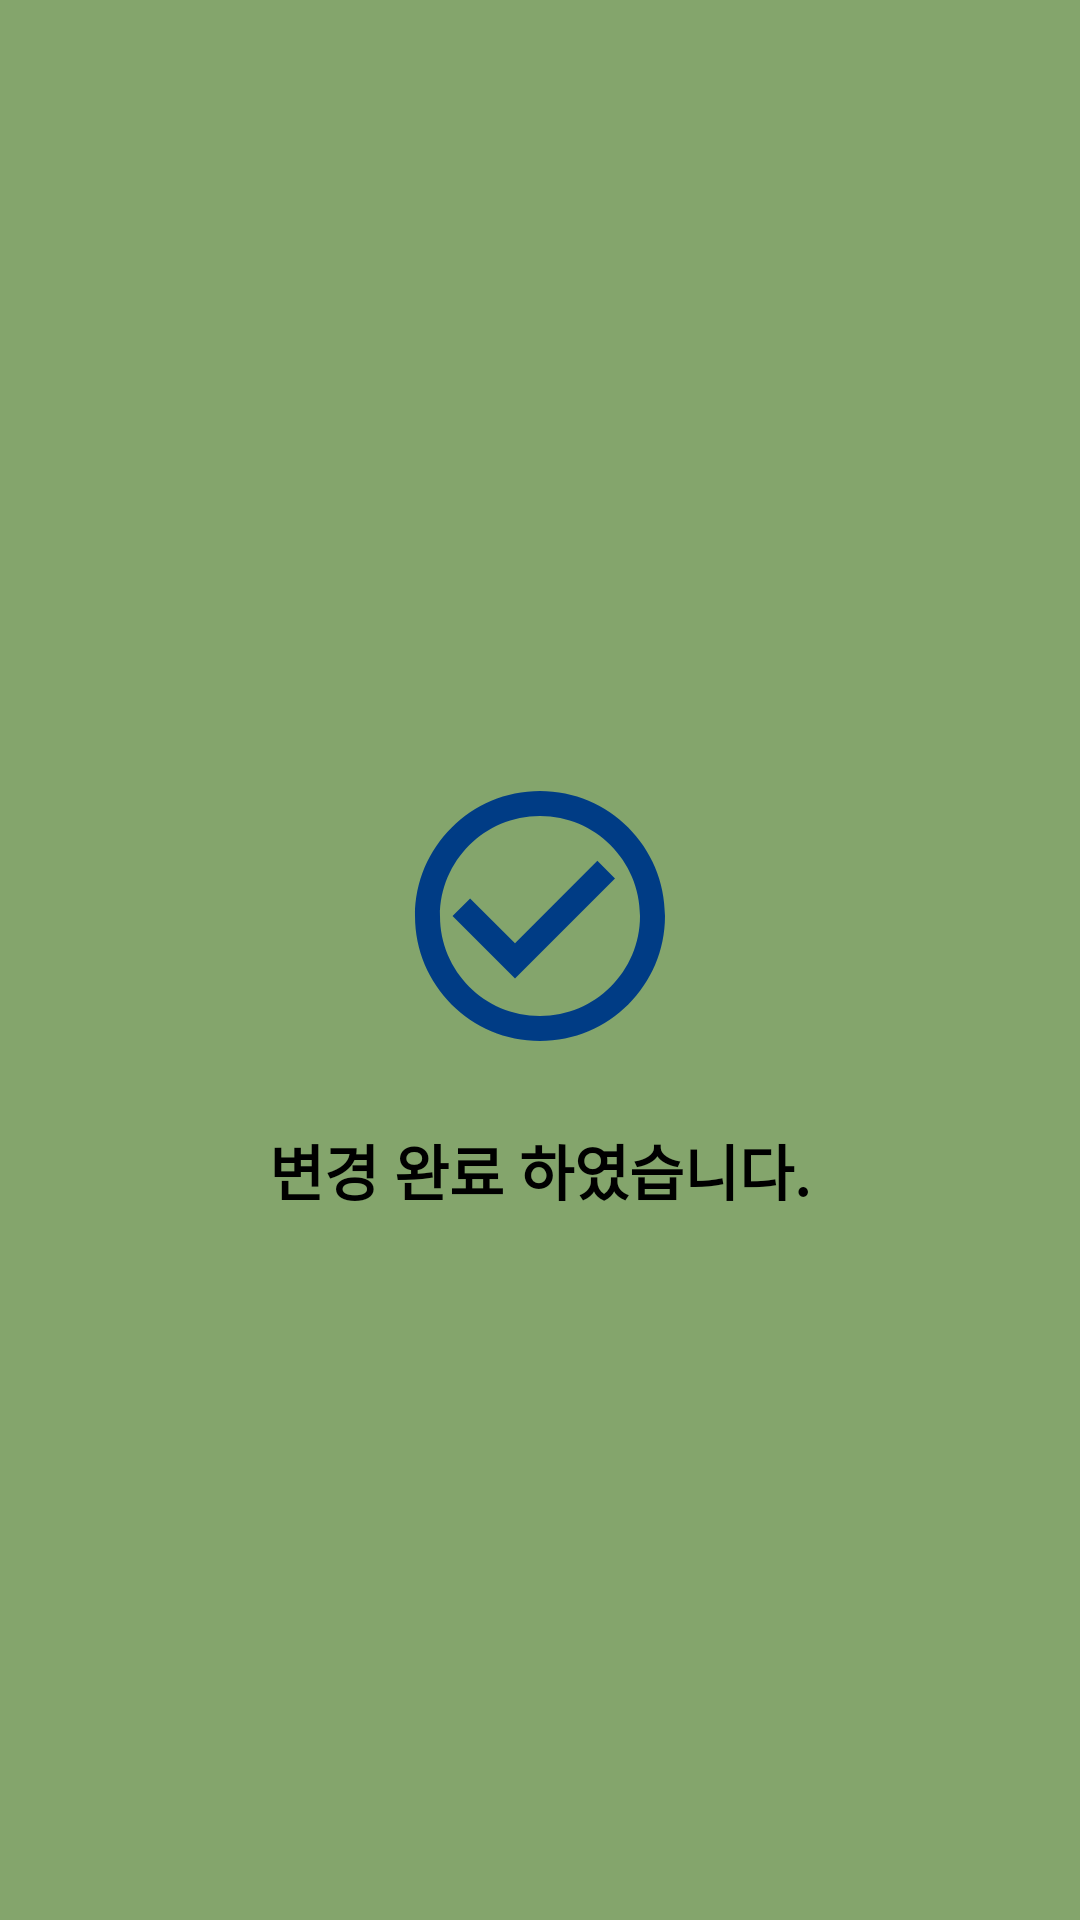

Icon bounding boxes for this 1080×1920 phone screenshot, format detection(x1, y1, x2, y2):
find id fin: detection(415, 791, 665, 1041)
